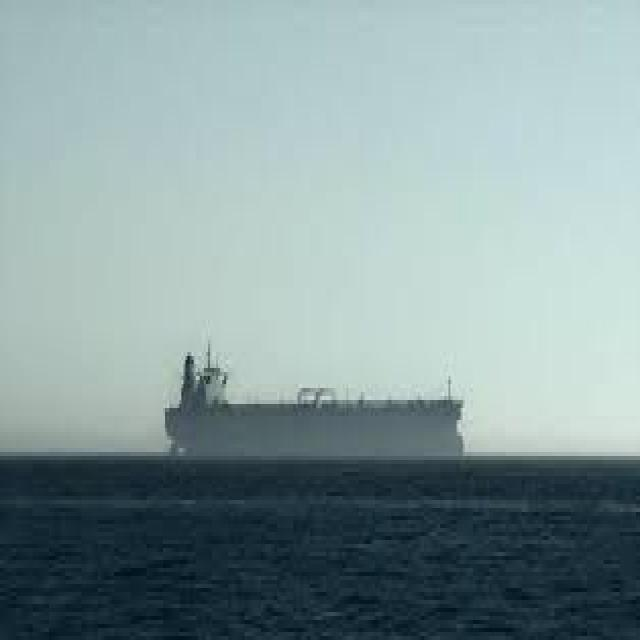cargoship: (140, 318, 498, 478)
